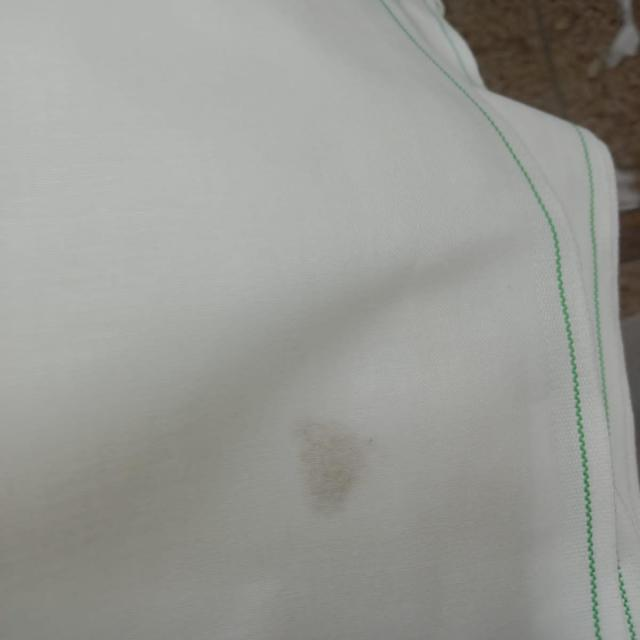stain: (284, 412, 390, 523)
